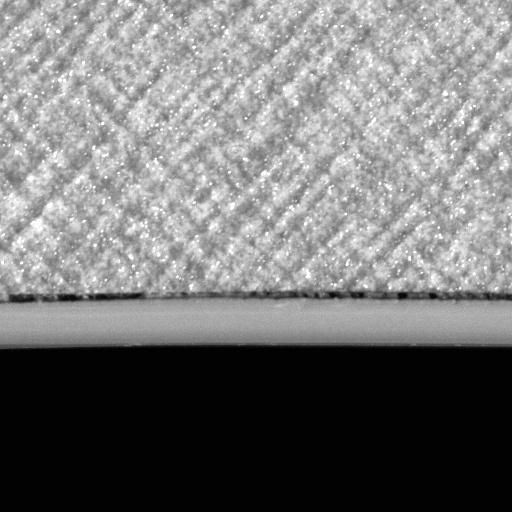jiaofeng: (202, 286, 511, 316), (0, 289, 150, 317)
